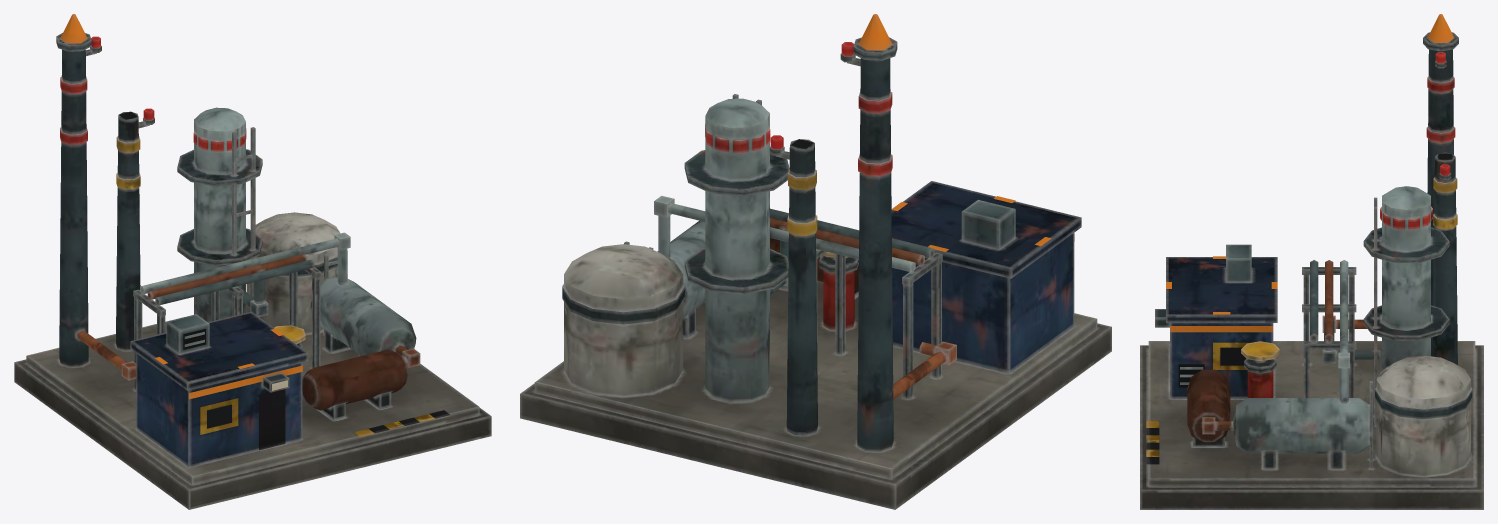
The model's file is refinery.glb.
3 renders of one model, left to right at view 1: azimuth 30°, elevation 25°; view 2: azimuth 150°, elevation 25°; view 3: azimuth 270°, elevation 25°, orthographic. The views are drawn at different scales.
Visible parts, largest first — view 1: te_refinery; view 2: te_refinery; view 3: te_refinery.
Boxes of the visible parts, x1,y1,x2,y2 form: te_refinery: [14, 14, 491, 509]; te_refinery: [520, 14, 1111, 509]; te_refinery: [1140, 14, 1483, 509].
Size of the model in its own units: 0.8 by 0.945 by 0.8.
Materials: 1 (1 with a texture image).
